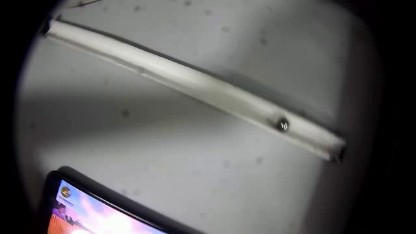gangzhu: (275, 115, 289, 130)
